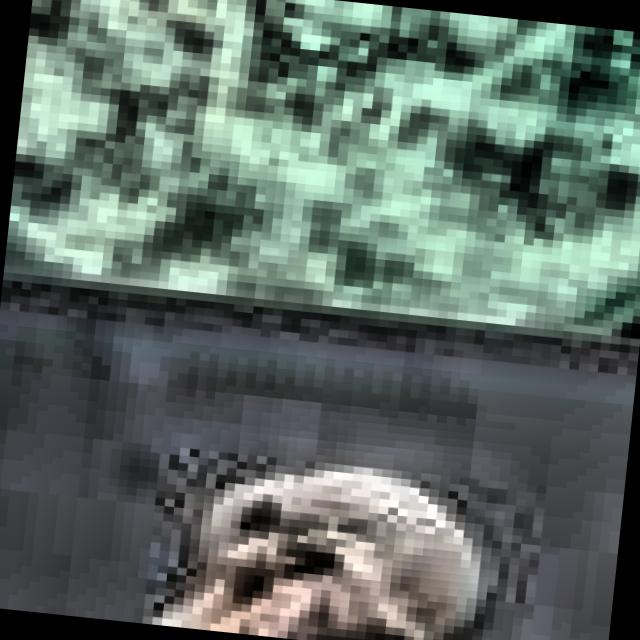Affected: (17, 417, 481, 640)
